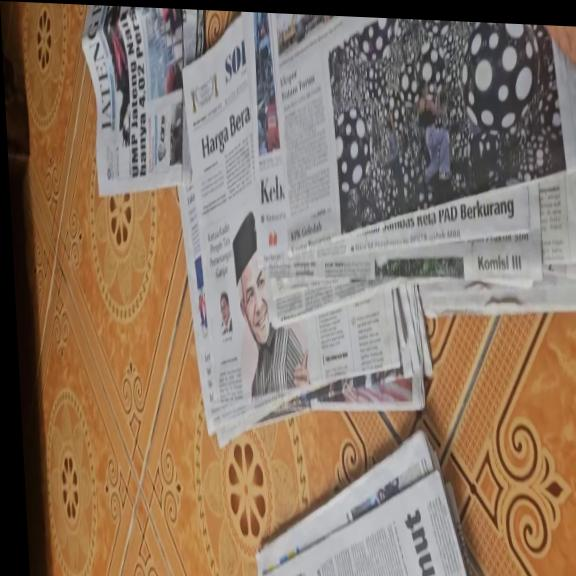Kertas: (266, 18, 576, 329), (168, 17, 415, 397), (87, 7, 214, 186)
